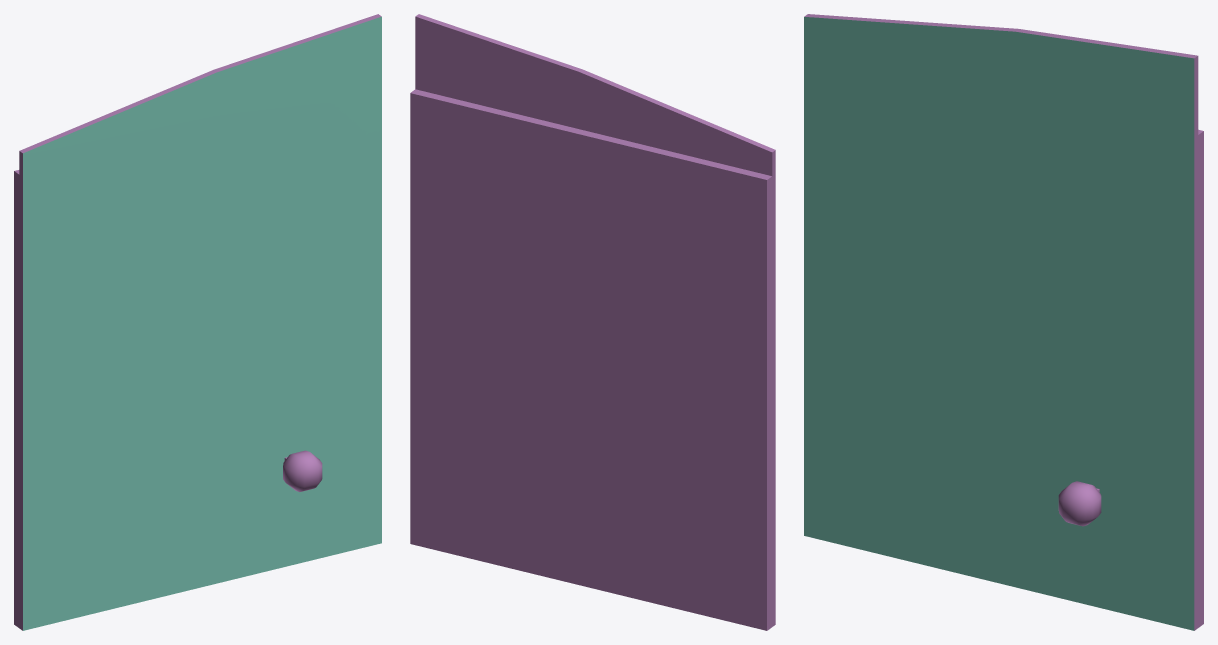
File: SalleDeBainPorteGrdMiroireFin.fbx
3 renders of one model, left to right at view 1: azimuth 30°, elevation 25°; view 2: azimuth 150°, elevation 25°; view 3: azimuth 330°, elevation 25°, orthographic. The views are drawn at different scales.
Visible parts, largest first — view 1: SalleDeBainPorteGrdMiroireFin; view 2: SalleDeBainPorteGrdMiroireFin; view 3: SalleDeBainPorteGrdMiroireFin.
Part boxes in pixels (<box>): SalleDeBainPorteGrdMiroireFin: <box>14,14,381,630</box>; SalleDeBainPorteGrdMiroireFin: <box>410,14,775,630</box>; SalleDeBainPorteGrdMiroireFin: <box>804,14,1203,630</box>.
Bounding box in the file's own units: 49.7 × 69.67 × 7.35.
